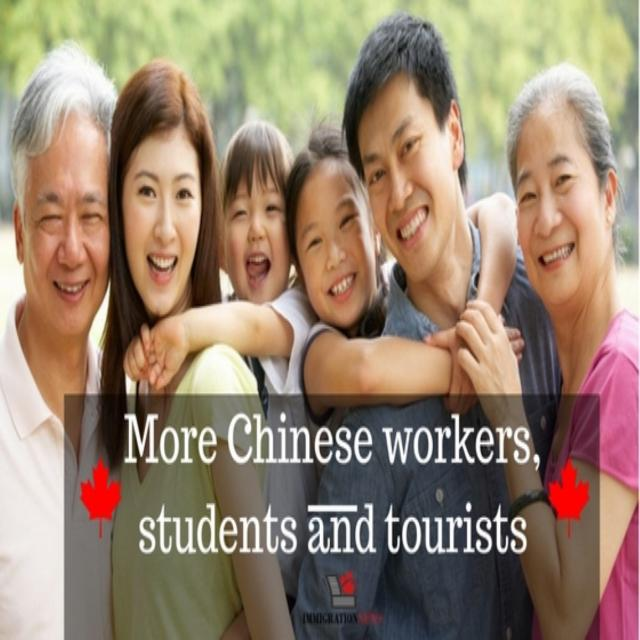body: (294, 11, 569, 639), (286, 116, 533, 639), (100, 57, 300, 640), (453, 61, 639, 639), (123, 116, 322, 639), (0, 37, 121, 640)
